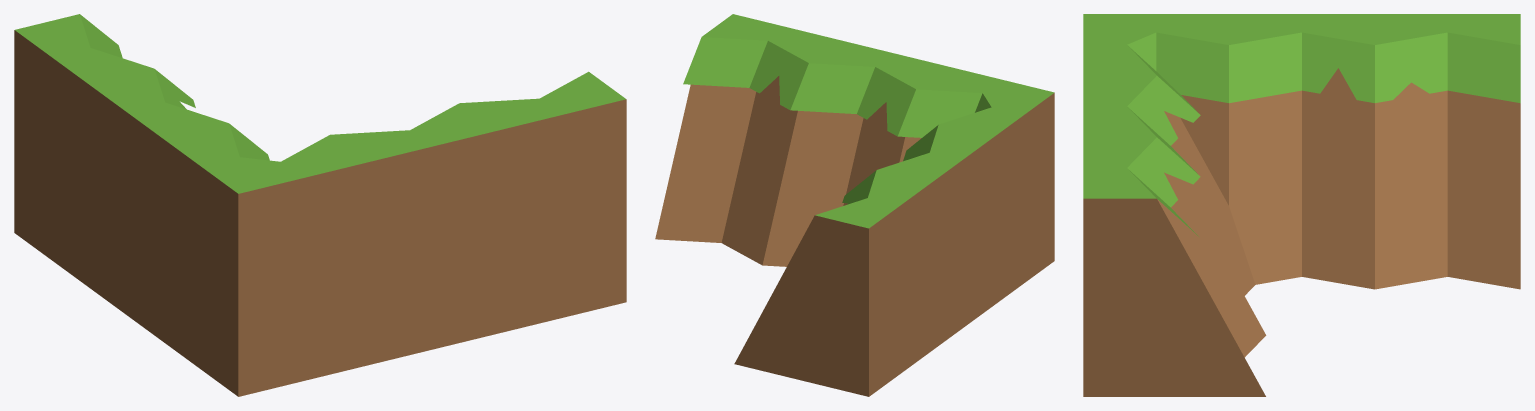
The model's file is cliff_halfCornerInner_rock.glb.
The picture shows the model from 3 angles, left to right: view 1: azimuth 30°, elevation 25°; view 2: azimuth 150°, elevation 25°; view 3: azimuth 270°, elevation 25°; orthographic projection. The views are drawn at different scales.
Parts seen in each view (by area): view 1: cliff_halfCornerInner_rock; view 2: cliff_halfCornerInner_rock; view 3: cliff_halfCornerInner_rock.
Part boxes in pixels (<box>): cliff_halfCornerInner_rock: <box>14,14,626,396</box>; cliff_halfCornerInner_rock: <box>655,14,1054,396</box>; cliff_halfCornerInner_rock: <box>1083,14,1520,396</box>.
Bounding box in the file's own units: 1 × 0.5 × 1.
